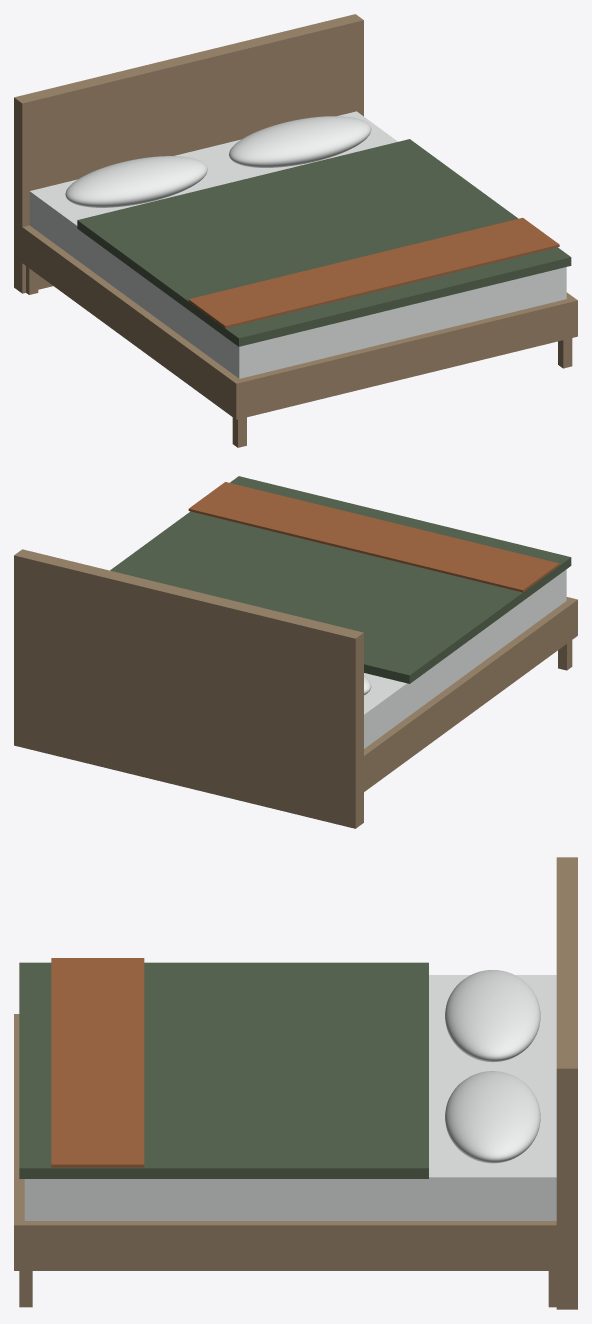
The model's file is Agy_francia_180.obj.
3 renders of one model, top to bottom at view 1: azimuth 30°, elevation 25°; view 2: azimuth 150°, elevation 25°; view 3: azimuth 270°, elevation 25°, orthographic. The views are drawn at different scales.
Size of the model in its own units: 1.88 by 1 by 2.12.
